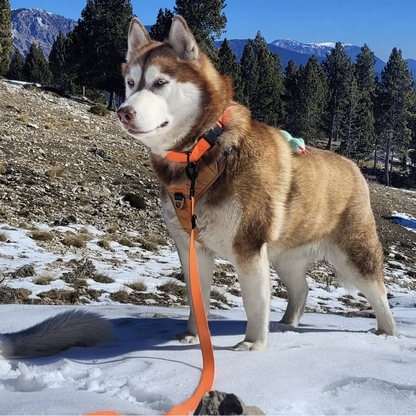husky: (111, 11, 403, 354)
